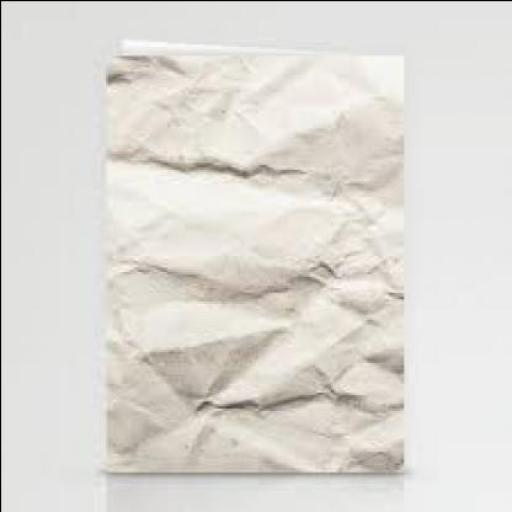paper: (104, 38, 408, 472)
